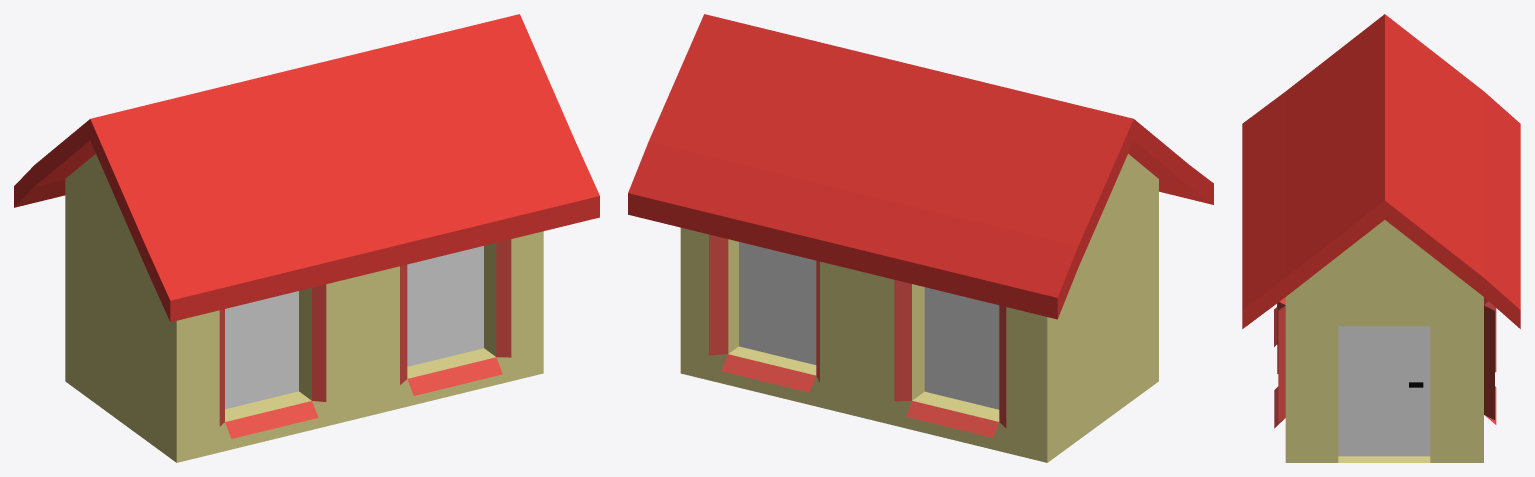
File: LittleHouse.fbx
3 renders of one model, left to right at view 1: azimuth 30°, elevation 25°; view 2: azimuth 150°, elevation 25°; view 3: azimuth 270°, elevation 25°, orthographic. The views are drawn at different scales.
Parts seen in each view (by area): view 1: Cube; view 2: Cube; view 3: Cube.
Part boxes in pixels (x1,y1,x2,y2): Cube: [14, 14, 599, 462]; Cube: [628, 14, 1213, 462]; Cube: [1242, 14, 1520, 462].
Size of the model in its own units: 1196 by 827 by 754.
